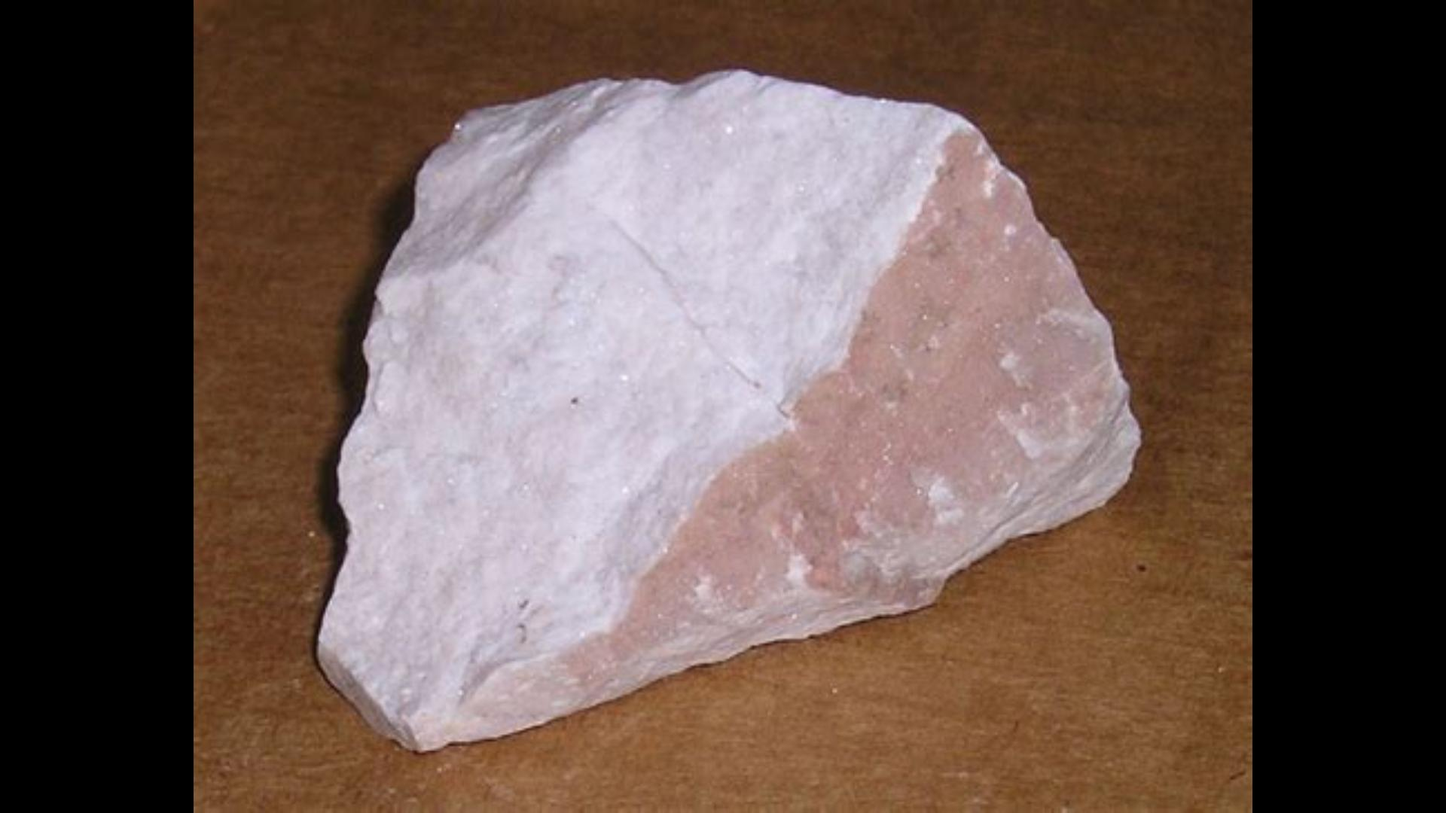rock: (321, 74, 1137, 746)
